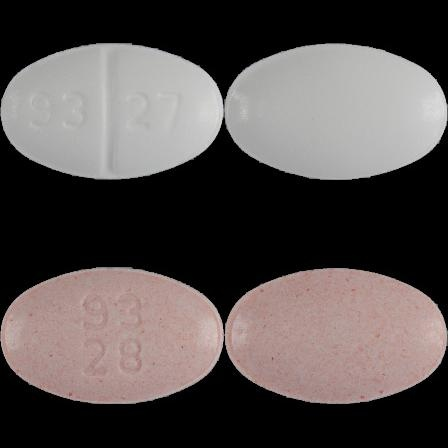0093-0027: (0, 0, 224, 224)
